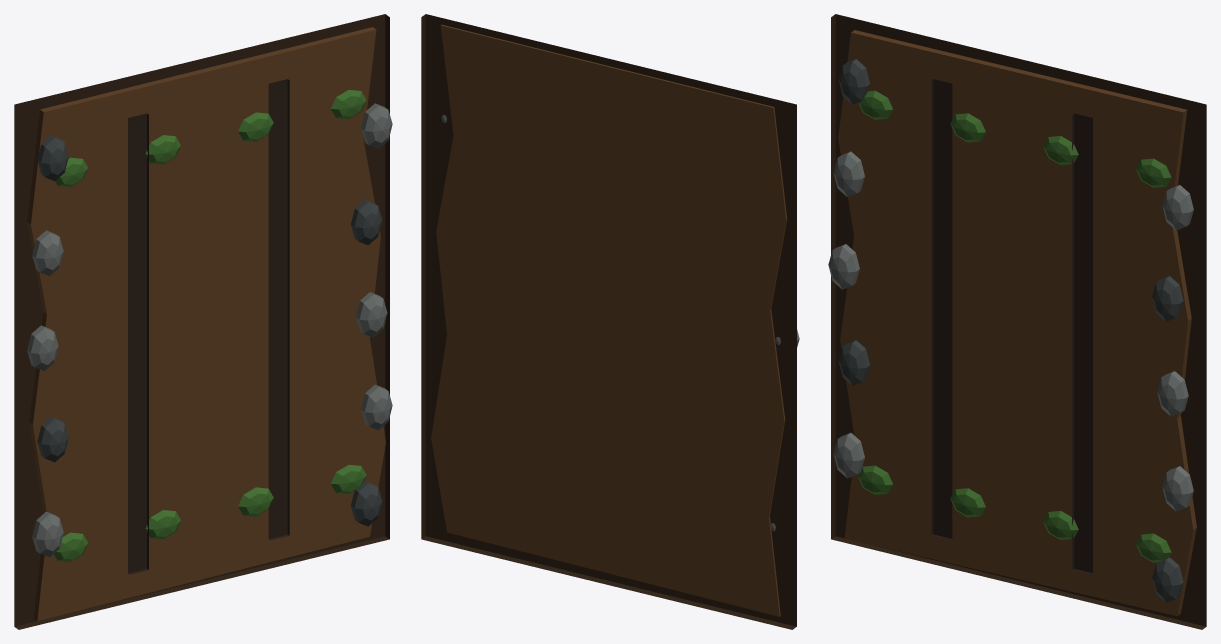
The model's file is road_dirt.obj.
3 renders of one model, left to right at view 1: azimuth 30°, elevation 25°; view 2: azimuth 150°, elevation 25°; view 3: azimuth 330°, elevation 25°, orthographic.
Parts seen in each view (by area): view 1: RoadSurface, RoadBed, WheelRut1.1, WheelRut-1.1, EdgeStone5, EdgeStone3, EdgeStone6, EdgeStone8, EdgeStone1, EdgeStone2, EdgeStone4, EdgeStone7 (+10 smaller); view 2: RoadSurface, RoadBed; view 3: RoadSurface, RoadBed, WheelRut-1.1, WheelRut1.1, EdgeStone8, EdgeStone2, EdgeStone4, EdgeStone6, EdgeStone7, EdgeStone0, EdgeStone1, EdgeStone5 (+10 smaller).
Boxes of the visible parts, box(x1,y1,x2,y2) form: RoadSurface: box(27, 27, 385, 621); RoadBed: box(14, 14, 389, 629); WheelRut1.1: box(268, 79, 289, 540); WheelRut-1.1: box(128, 113, 148, 574); EdgeStone5: box(27, 325, 58, 371); EdgeStone3: box(37, 416, 68, 462); EdgeStone6: box(351, 199, 382, 245); EdgeStone8: box(361, 103, 392, 148); EdgeStone1: box(32, 511, 63, 557); EdgeStone2: box(361, 384, 392, 430); EdgeStone4: box(356, 292, 387, 337); EdgeStone7: box(32, 230, 63, 276); RoadSurface: box(431, 24, 787, 616); RoadBed: box(421, 14, 796, 629); RoadSurface: box(838, 30, 1196, 616); RoadBed: box(831, 14, 1206, 629); WheelRut-1.1: box(931, 79, 952, 540); WheelRut1.1: box(1072, 113, 1092, 574); EdgeStone8: box(1162, 185, 1193, 230); EdgeStone2: box(1162, 466, 1193, 511); EdgeStone4: box(1157, 371, 1188, 416); EdgeStone6: box(1152, 276, 1183, 321); EdgeStone7: box(833, 151, 864, 197); EdgeStone0: box(1152, 557, 1183, 602); EdgeStone1: box(833, 432, 864, 478); EdgeStone5: box(828, 244, 859, 289).
Bounding box in the file's own units: 5.8 × 7.8 × 0.43.
